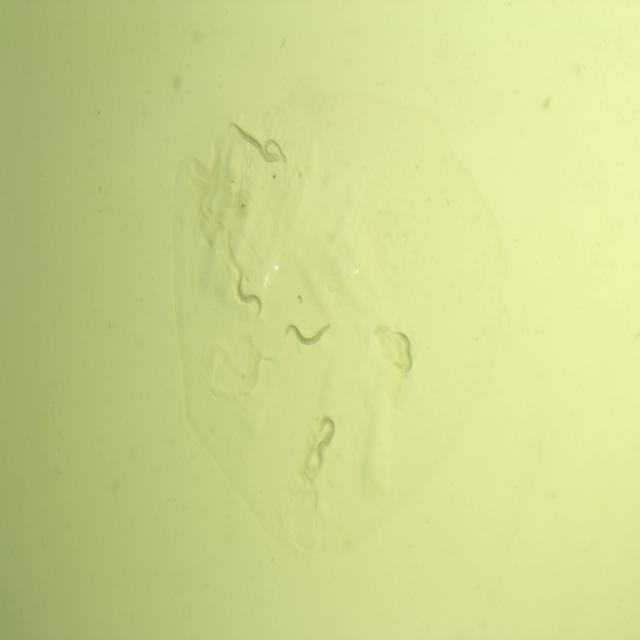worm: (227, 116, 282, 165), (386, 318, 419, 384), (282, 313, 335, 352), (232, 268, 268, 324), (307, 410, 339, 464), (260, 134, 291, 172)
